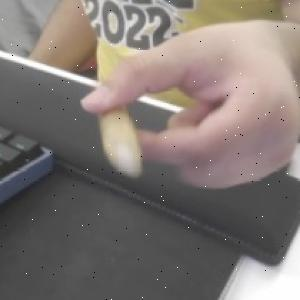Golden-E-Ciggirate: (93, 103, 145, 184)
